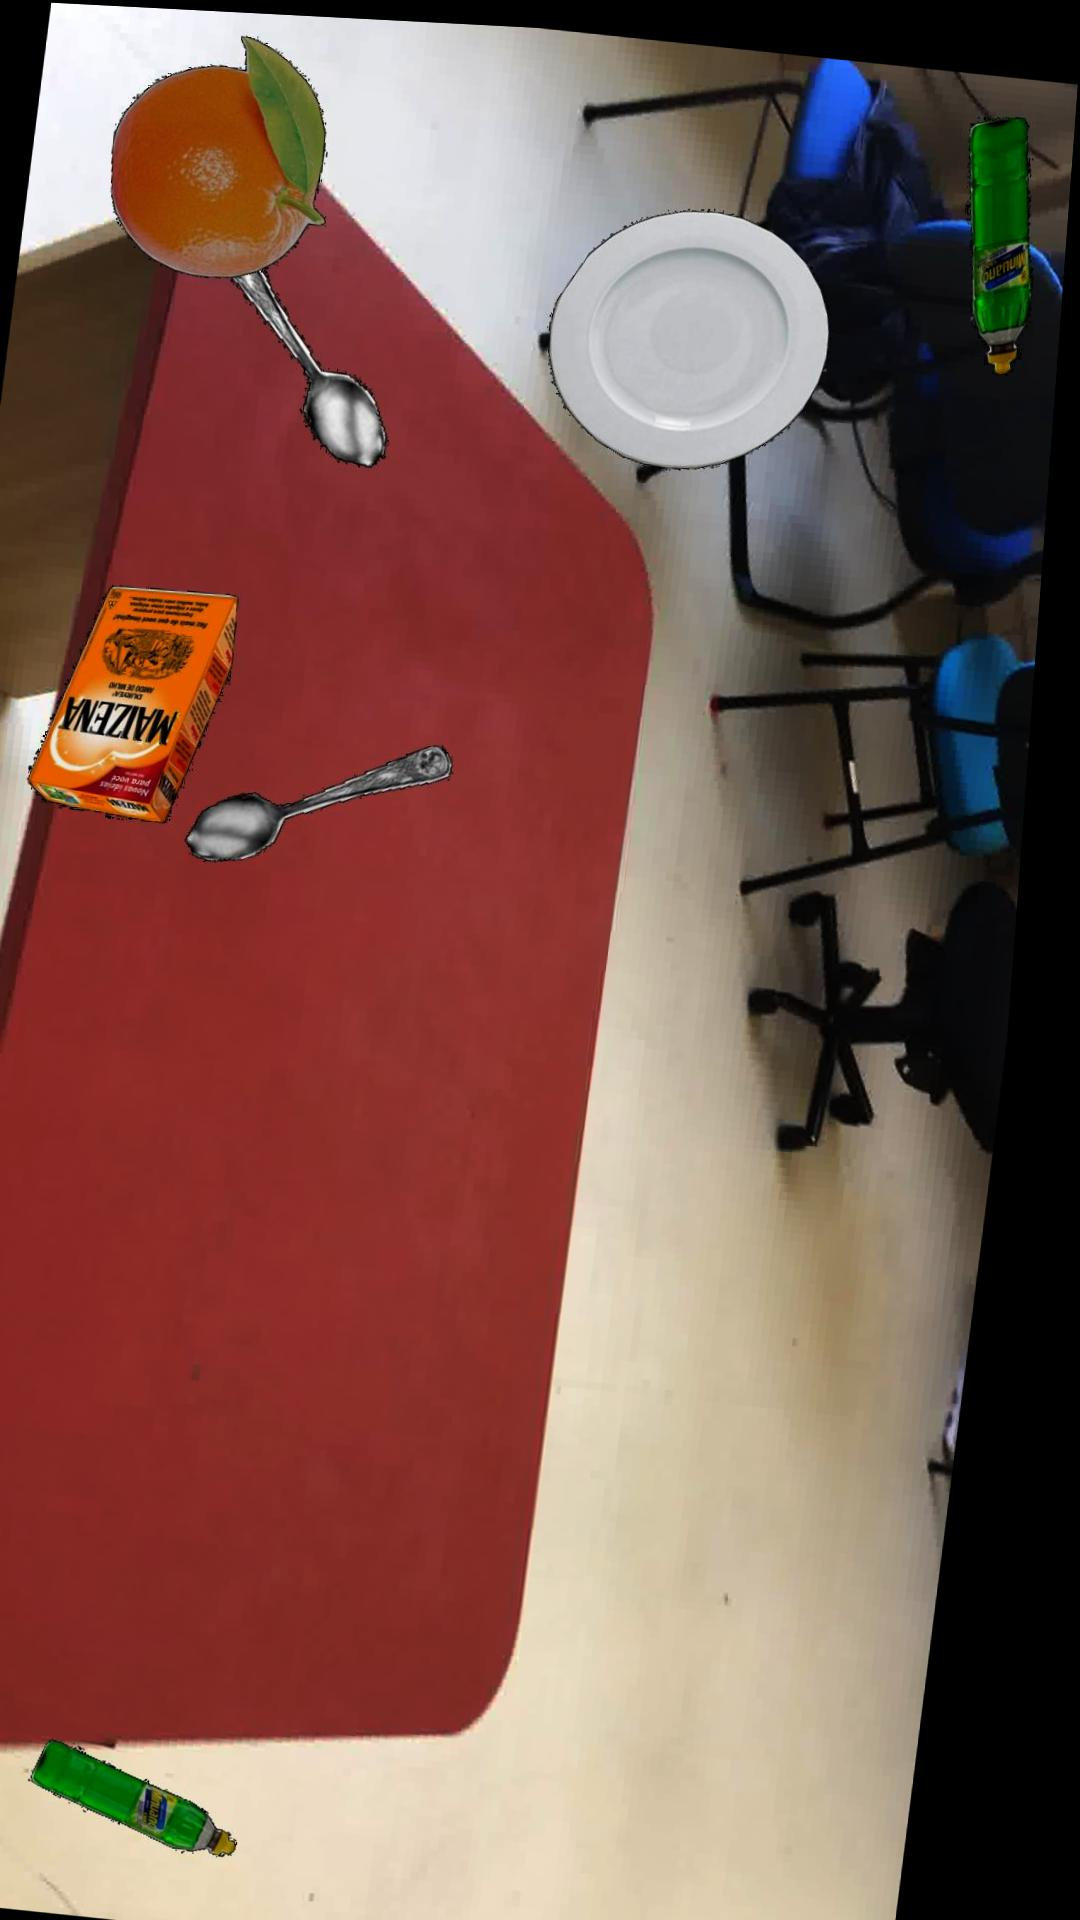cleaner: (57, 1738, 262, 1853), (964, 105, 1034, 364)
orange: (111, 33, 326, 276)
plate: (550, 202, 832, 463)
spoon: (195, 740, 462, 858), (232, 266, 390, 463)
